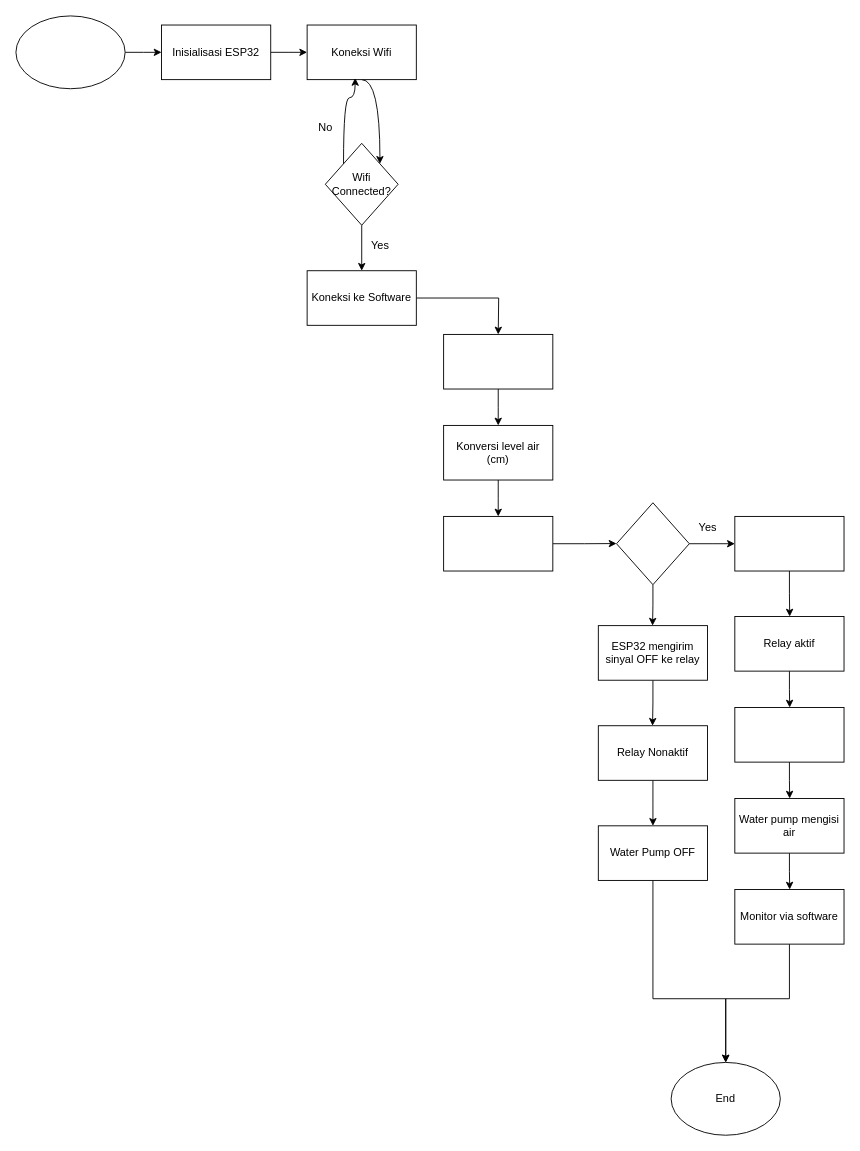
This 860x1151 diagram has some shape labels left out. The shapes that lost their labels are listed below. From the top down, each one's centre as x and y in pixels, then its label:
At point 70,52: "Start".
At point 498,361: "Hitung jarak ke permukaan air".
At point 498,543: "Kirim data level air ke software".
At point 652,543: "Level Air Rendah?".
At point 789,543: "ESP32 Kirim sinyal ON ke relay".
At point 789,734: "Water Pump ON".
